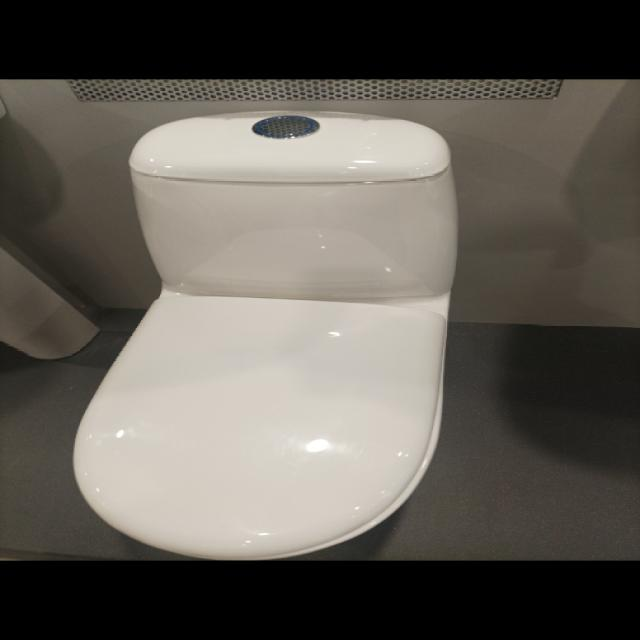toilet: (71, 109, 459, 560)
